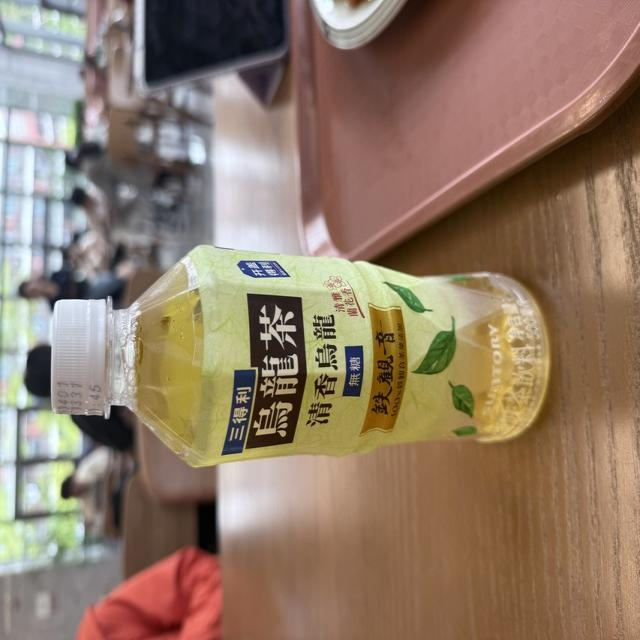high: (51, 245, 548, 466)
